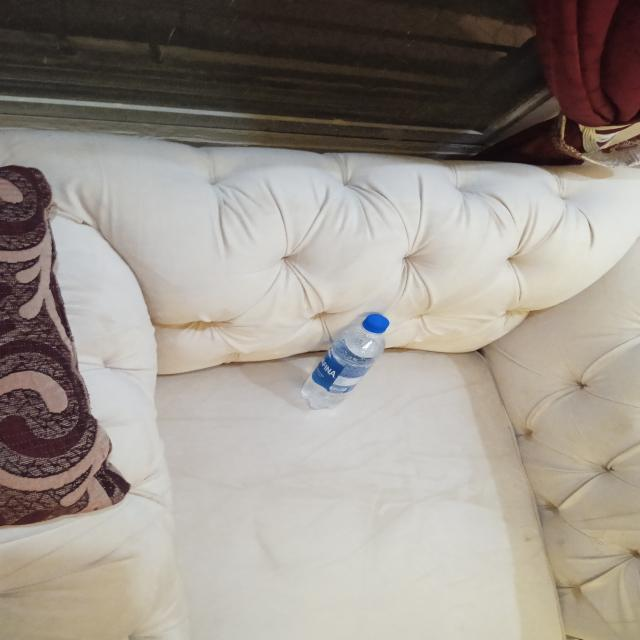Plastic: (306, 310, 388, 410)
